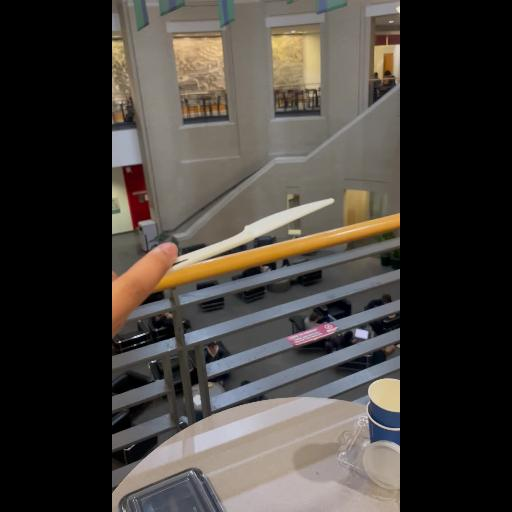utensil: (141, 188, 349, 278)
